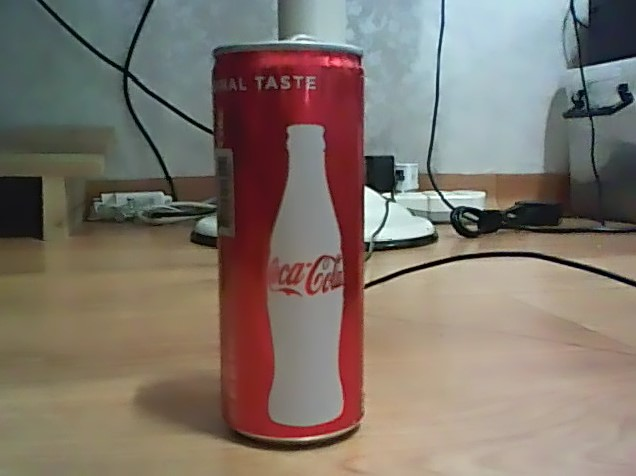Can: (205, 34, 372, 451)
